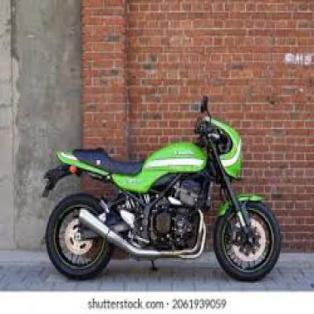Motocicleta: (38, 91, 281, 288)
